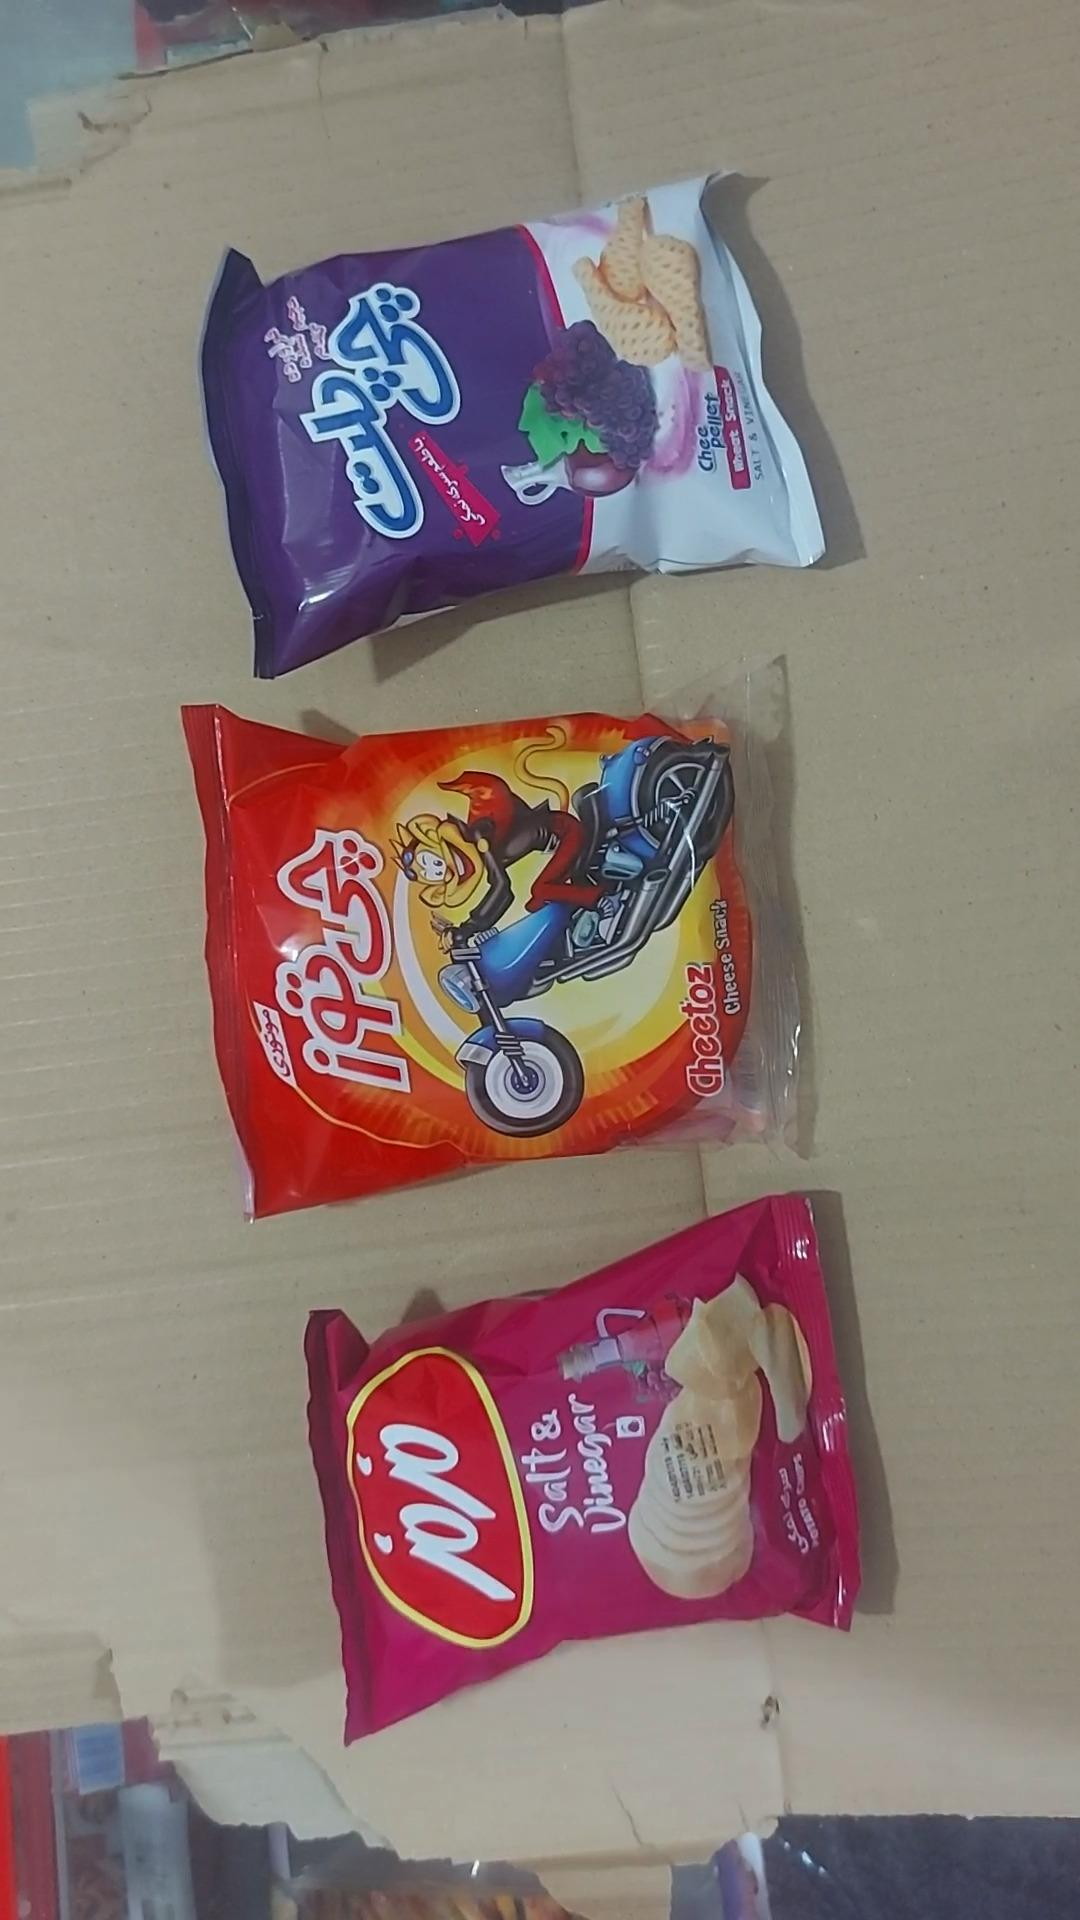Chee pellet vinegar: (198, 175, 825, 682)
Cheetoz snack 30g: (179, 655, 818, 1222)
Maz Maz vinegar chips: (303, 1195, 862, 1746)
